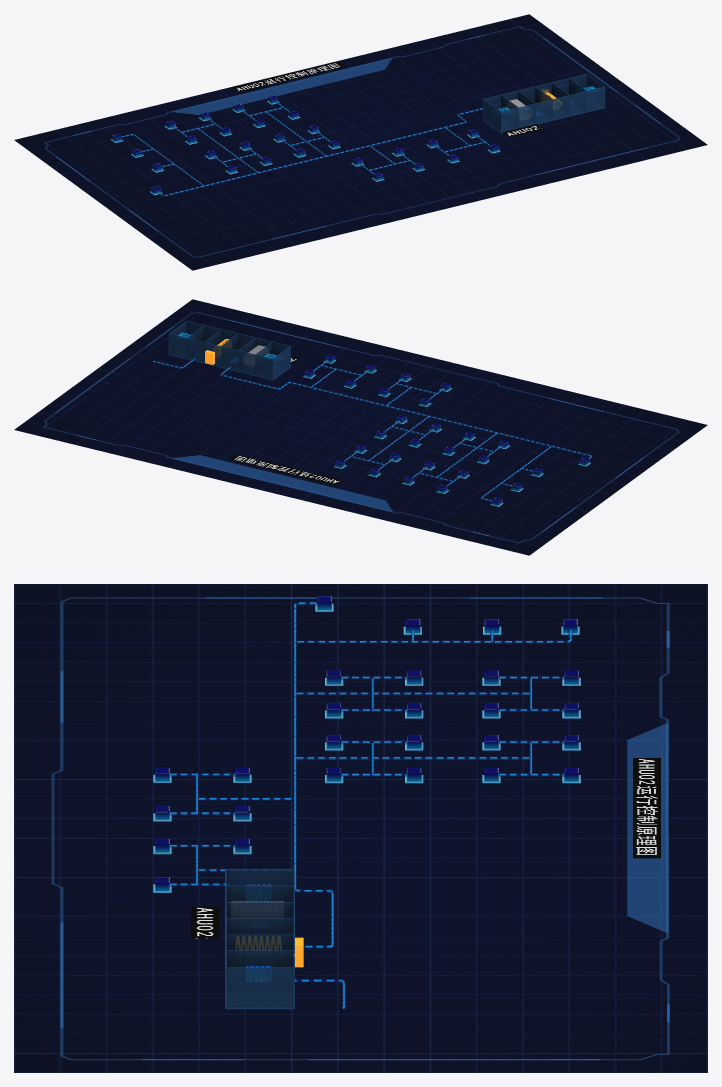
File: AHU02.FBX
3 renders of one model, top to bottom at view 1: azimuth 30°, elevation 25°; view 2: azimuth 150°, elevation 25°; view 3: azimuth 270°, elevation 25°, orthographic. The views are drawn at different scales.
Parts seen in each view (by area): view 1: BG, MAU_Body, AHU02_Pipe, Outlet292, AHU02_Wind, AHU02; view 2: BG, MAU_Body, AHU02_Pipe, Outlet292, AHU02_Wind, AHU02; view 3: BG, MAU_Body, AHU02_Pipe, Outlet292, AHU02_Wind, AHU02, Coil.
Part boxes in pixels (left/top/right/bottom): BG: left=14, top=14, right=707, bottom=270; MAU_Body: left=483, top=73, right=605, bottom=133; AHU02_Pipe: left=122, top=101, right=490, bottom=196; Outlet292: left=110, top=95, right=500, bottom=195; AHU02_Wind: left=122, top=100, right=489, bottom=196; AHU02: left=233, top=61, right=543, bottom=137; BG: left=14, top=299, right=707, bottom=555; MAU_Body: left=168, top=320, right=290, bottom=380; AHU02_Pipe: left=153, top=358, right=592, bottom=501; Outlet292: left=303, top=354, right=590, bottom=506; AHU02_Wind: left=153, top=358, right=591, bottom=501; AHU02: left=229, top=353, right=341, bottom=485; BG: left=14, top=584, right=707, bottom=1072; MAU_Body: left=225, top=869, right=294, bottom=1009; AHU02_Pipe: left=170, top=601, right=572, bottom=1008; Outlet292: left=153, top=596, right=580, bottom=892; AHU02_Wind: left=170, top=602, right=571, bottom=1008; AHU02: left=191, top=758, right=660, bottom=938; Coil: left=231, top=901, right=283, bottom=917.
Bounding box in the file's own units: 250 × 14.04 × 150.
